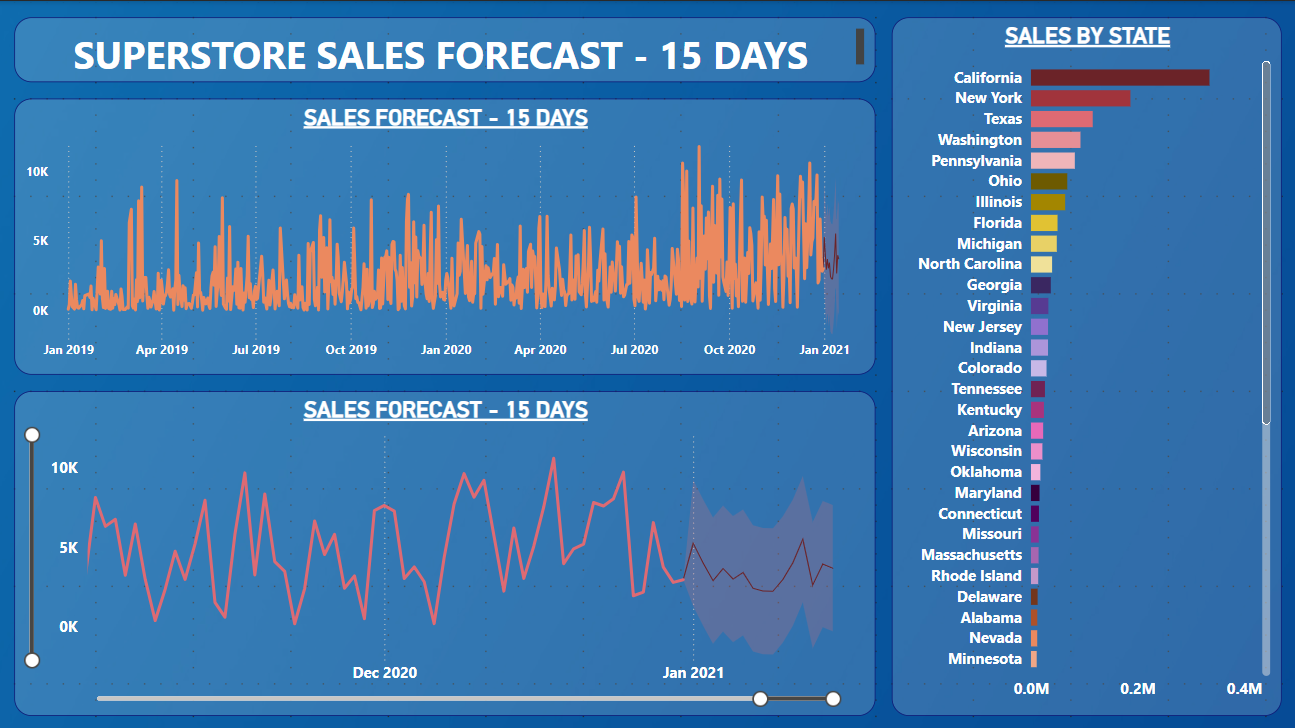

The dashboard page shown, as its layout file describes it:
{"tool":"powerbi","page":{"name":"Sales Forcast","canvas":[1280,720],"ordinal":1},"visuals":[{"type":"lineChart","title":"SALES FORECAST - 15 DAYS","fields":{"Y":["Sum(SuperStore_Sales_Dataset.Sales)"],"Category":["SuperStore_Sales_Dataset.Order Date"]},"box":[16,96,848,272],"z":0},{"type":"lineChart","title":"SALES FORECAST - 15 DAYS","fields":{"Y":["Sum(SuperStore_Sales_Dataset.Sales)"],"Category":["SuperStore_Sales_Dataset.Order Date"]},"box":[16,384,848,320],"z":1},{"type":"barChart","title":"SALES BY STATE","fields":{"Category":["SuperStore_Sales_Dataset.State"],"Y":["Sum(SuperStore_Sales_Dataset.Sales)"]},"box":[880,16,384,688],"z":2},{"type":"textbox","box":[16,16,848,64],"z":3}]}

Visuals, with their boxes in screenshot pixels (x1, y1, x2, y2), scaled from the page's 1280x720 canvas onto the 1295x728 screenshot:
"SALES FORECAST - 15 DAYS" lineChart: x1=16, y1=97, x2=874, y2=372
"SALES FORECAST - 15 DAYS" lineChart: x1=16, y1=388, x2=874, y2=712
"SALES BY STATE" barChart: x1=890, y1=16, x2=1279, y2=712
textbox: x1=16, y1=16, x2=874, y2=81
